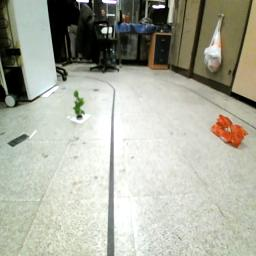herb: (72, 90, 89, 118)
wild: (213, 113, 250, 149)
